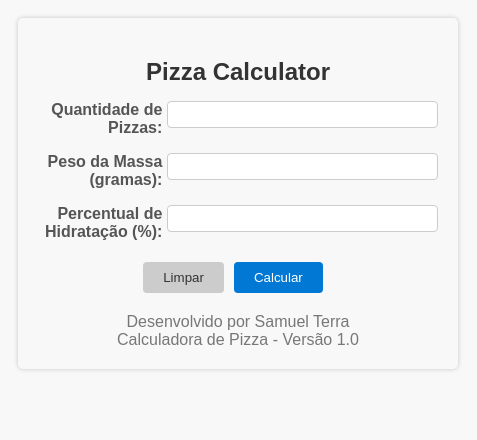
Scenario: Calculator › exibe mensagem de erro ao calcular com valores inválidos
This screenshot has width=477, height=440.
// Insere valores inválidos nos campos
Type "0" into the number field labelled "Quantidade de Pizzas:" at coordinates (303, 114), box [167,101,438,128]
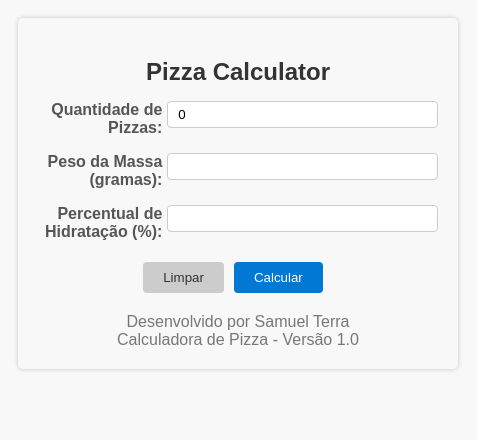
Type "-200" into the number field labelled "Peso da Massa (gramas):" at coordinates (303, 166), box [167,153,438,180]
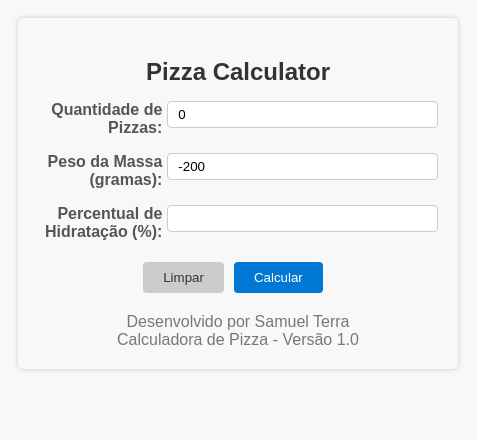
Type "-50" into the number field labelled "Percentual de Hidratação (%):" at coordinates (303, 218), box [167,205,438,232]
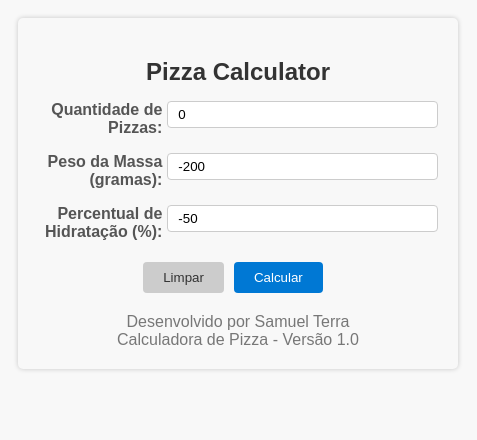
Click the button "Calcular" at coordinates (278, 277), box [234,262,323,293]
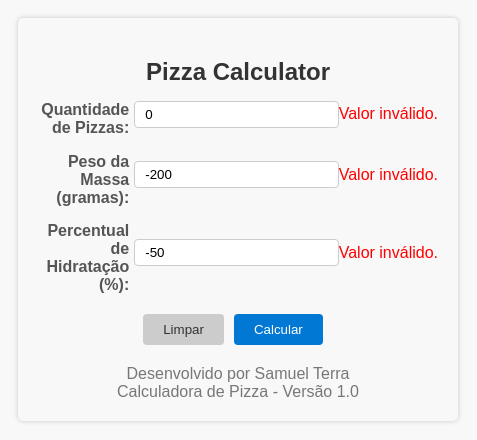
expect the text with test id "erro-quantidade-pizzas" is shown: met, box [339,105,438,123]
expect the text with test id "erro-peso-massa" is shown: met, box [339,166,438,184]
expect the text with test id "erro-percentual-hidratacao" is shown: met, box [339,244,438,262]
